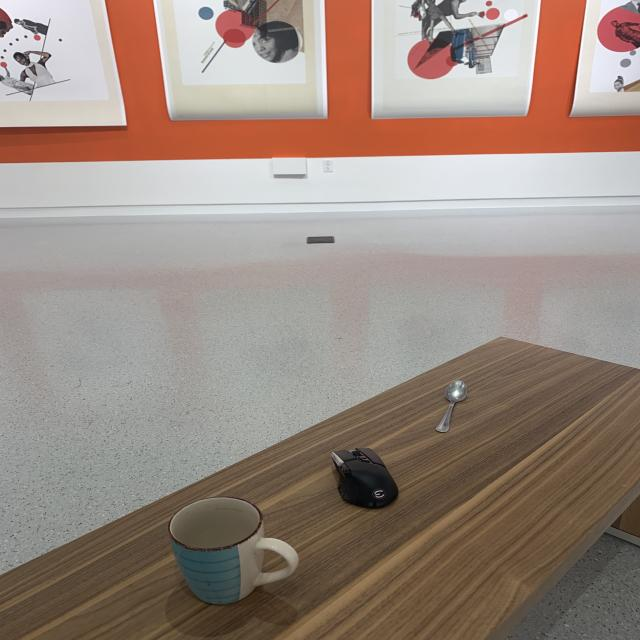Cup: (166, 496, 301, 607)
Mouse: (321, 442, 405, 517)
Spoon: (435, 376, 473, 443)
